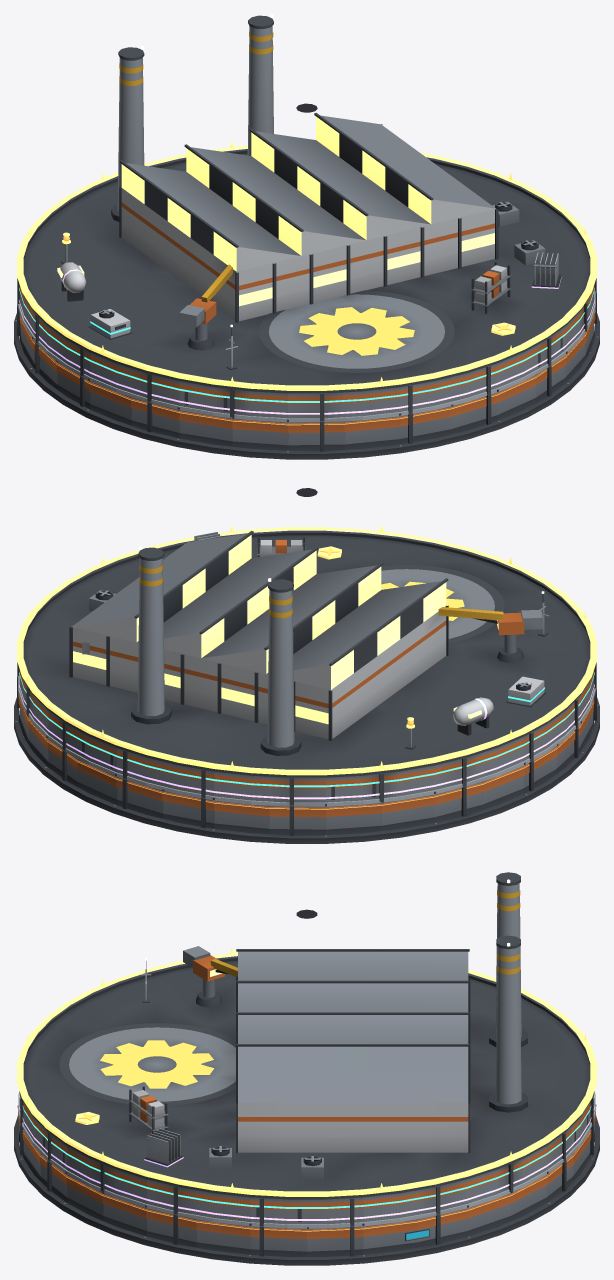
The model's file is workshop_xl.glb.
The picture shows the model from 3 angles, top to bottom: view 1: azimuth 30°, elevation 25°; view 2: azimuth 150°, elevation 25°; view 3: azimuth 270°, elevation 25°; orthographic projection.
Visible parts, largest first — view 1: Roof, Base, L4, Wall_21, Wall_20, Wall_22, Wall_19, Wall_23, Wall_18, Wall_24, Upper_21, Upper_20 (+16 smaller); view 2: Roof, Base, Wall_10, Wall_11, Wall_09, Wall_12, Wall_08, Wall_13, Upper_10, Wall_07, Upper_09, Upper_11 (+18 smaller); view 3: Roof, Base, Wall_00, Wall_31, Wall_30, Wall_01, Wall_29, Wall_02, Upper_00, Wall_28, Wall_03, Upper_31 (+15 smaller).
Boxes of the visible parts, left/top/right/bottom form: Roof: left=23, top=14, right=590, bottom=393; Base: left=14, top=313, right=599, bottom=459; L4: left=57, top=252, right=561, bottom=301; Wall_21: left=288, top=421, right=344, bottom=451; Wall_20: left=232, top=417, right=287, bottom=450; Wall_22: left=344, top=416, right=399, bottom=449; Wall_19: left=179, top=410, right=232, bottom=446; Wall_23: left=399, top=406, right=451, bottom=444; Wall_18: left=131, top=397, right=179, bottom=438; Wall_24: left=451, top=392, right=497, bottom=434; Upper_21: left=288, top=392, right=344, bottom=421; Upper_20: left=232, top=389, right=287, bottom=418; Roof: left=23, top=488, right=590, bottom=777; Base: left=14, top=697, right=599, bottom=843; Wall_10: left=269, top=805, right=325, bottom=835; Wall_11: left=326, top=802, right=381, bottom=834; Wall_09: left=214, top=800, right=269, bottom=833; Wall_12: left=381, top=794, right=434, bottom=830; Wall_08: left=162, top=789, right=214, bottom=828; Wall_13: left=434, top=782, right=482, bottom=822; Upper_10: left=269, top=776, right=325, bottom=805; Wall_07: left=116, top=777, right=162, bottom=818; Upper_09: left=214, top=771, right=269, bottom=801; Upper_11: left=326, top=773, right=381, bottom=802; Roof: left=23, top=872, right=590, bottom=1199; Base: left=14, top=1116, right=599, bottom=1265; Wall_00: left=307, top=1226, right=363, bottom=1256; Wall_31: left=250, top=1226, right=306, bottom=1256; Wall_30: left=196, top=1219, right=250, bottom=1254; Wall_01: left=363, top=1219, right=417, bottom=1254; Wall_29: left=146, top=1208, right=196, bottom=1247; Wall_02: left=417, top=1208, right=467, bottom=1247; Upper_00: left=307, top=1197, right=363, bottom=1226; Wall_28: left=102, top=1192, right=146, bottom=1236; Wall_03: left=467, top=1193, right=511, bottom=1236; Upper_31: left=250, top=1197, right=306, bottom=1226.
Size of the model in its own units: 23.15 by 10.09 by 23.15.
